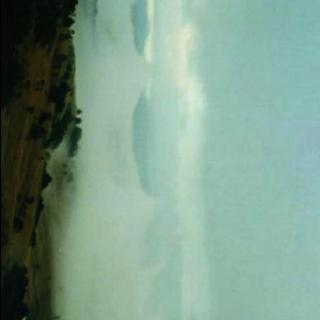Nimbostratus: (29, 0, 320, 320)
